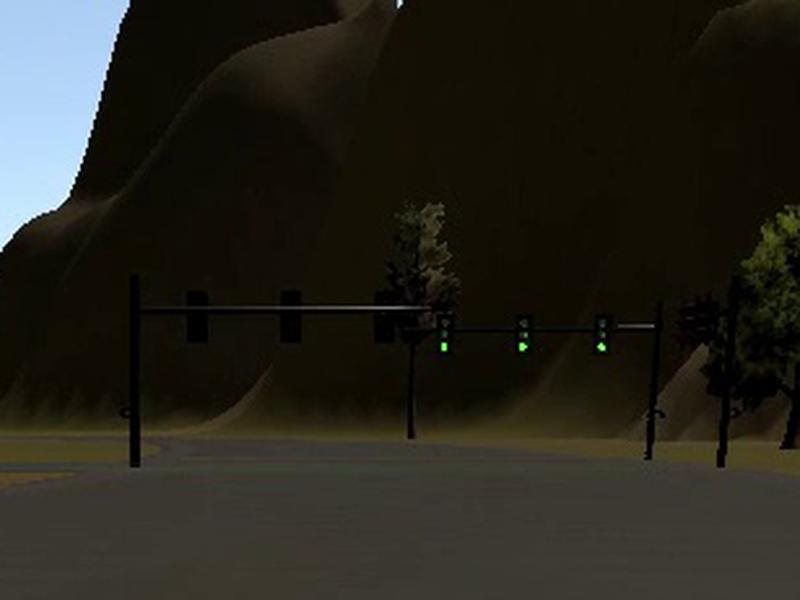Green: (593, 314, 612, 355), (436, 312, 454, 354), (515, 314, 532, 354)
